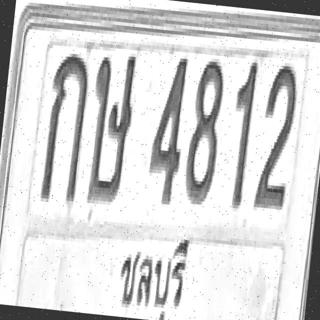A01: (40, 47, 92, 203)
A39: (83, 48, 139, 205)
N01: (225, 56, 259, 207)
N02: (254, 59, 299, 208)
N04: (146, 52, 190, 204)
N08: (182, 55, 227, 204)
P13: (112, 223, 193, 320)
